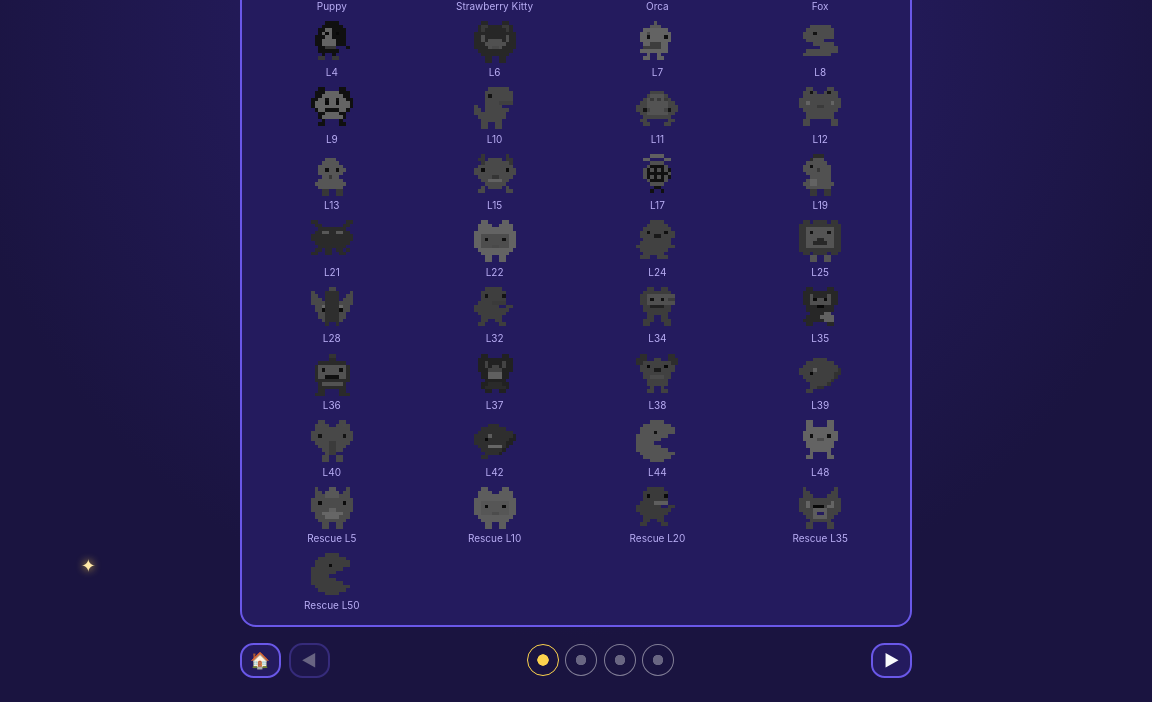
Test: RewardsScreen › shows progress written by the current per-world game flow
(page scrolled)
Click the button named "Badges".
click(620, 660)  # box top-left (604, 644), bottom-right (636, 676)
(page scrolled)
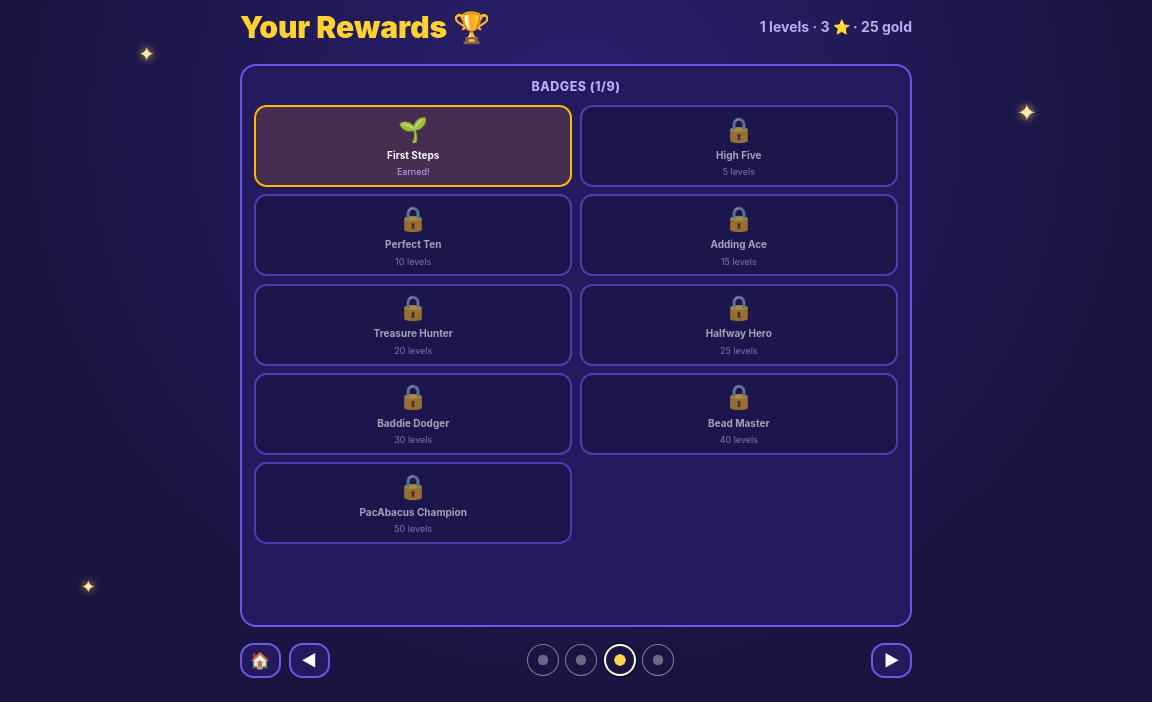
Result: the heading "BADGES (1/9)" is shown at top-left (531, 79), bottom-right (621, 94)
